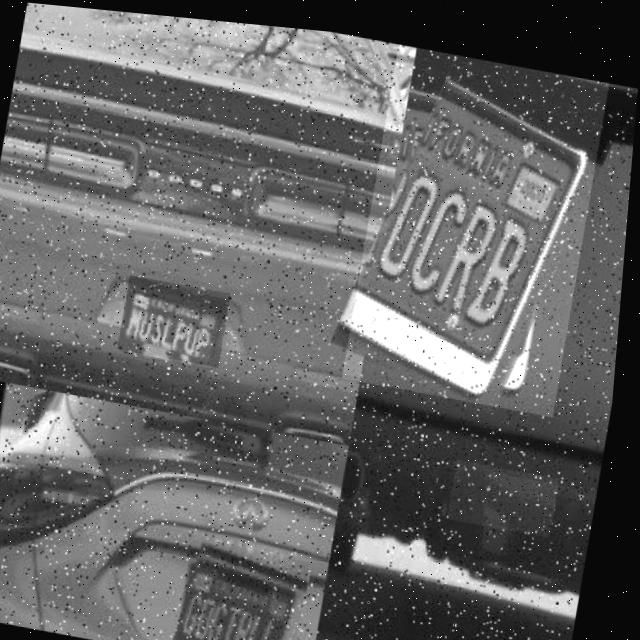LicensePlate: (346, 34, 611, 407), (182, 534, 319, 640), (124, 273, 233, 362), (454, 449, 567, 526)
